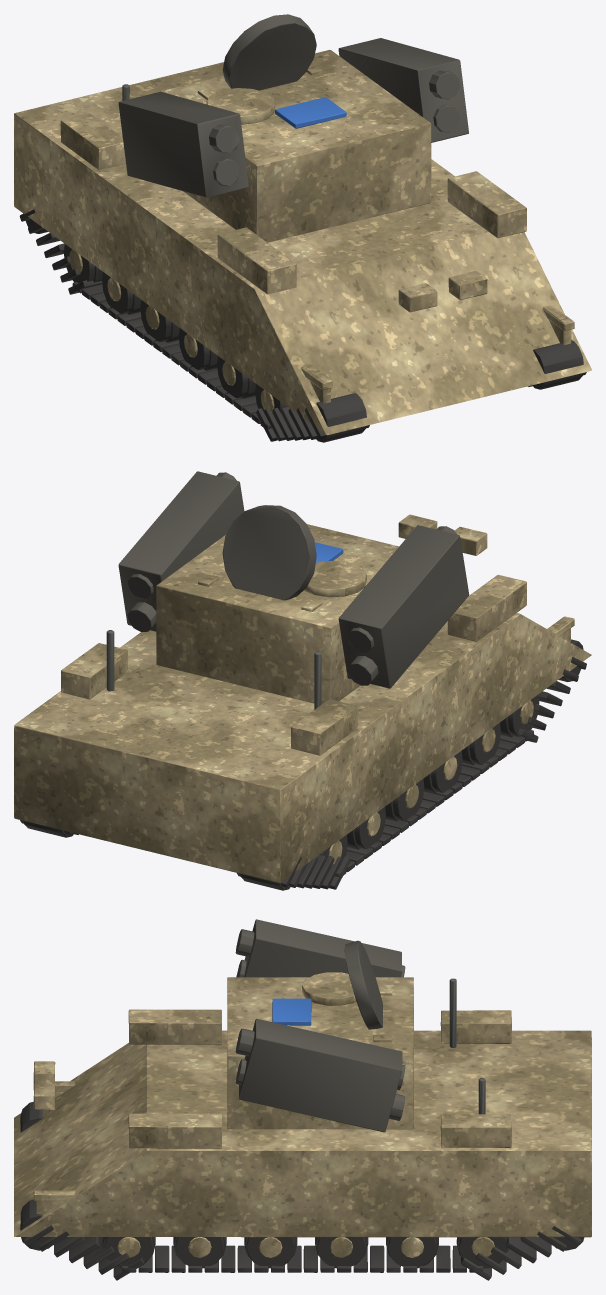
Rendered from aad_e4_us_shorad_LOD1.glb.
The picture shows the model from 3 angles, top to bottom: view 1: azimuth 30°, elevation 25°; view 2: azimuth 150°, elevation 25°; view 3: azimuth 270°, elevation 25°; orthographic projection. The views are drawn at different scales.
Parts seen in each view (by area): view 1: aad_e4_us_shorad_LOD1_body, aad_e4_us_shorad_LOD1_deck, aad_e4_us_shorad_LOD1_track, aad_e4_us_shorad_LOD1_team; view 2: aad_e4_us_shorad_LOD1_body, aad_e4_us_shorad_LOD1_deck, aad_e4_us_shorad_LOD1_track, aad_e4_us_shorad_LOD1_gun; view 3: aad_e4_us_shorad_LOD1_body, aad_e4_us_shorad_LOD1_deck, aad_e4_us_shorad_LOD1_track, aad_e4_us_shorad_LOD1_team, aad_e4_us_shorad_LOD1_gun.
Part boxes in pixels (x1=…): aad_e4_us_shorad_LOD1_body: x1=14, y1=50, x2=591, y2=435; aad_e4_us_shorad_LOD1_deck: x1=118, y1=14, x2=468, y2=197; aad_e4_us_shorad_LOD1_track: x1=19, y1=209, x2=586, y2=442; aad_e4_us_shorad_LOD1_team: x1=275, y1=97, x2=346, y2=128; aad_e4_us_shorad_LOD1_body: x1=14, y1=514, x2=591, y2=883; aad_e4_us_shorad_LOD1_deck: x1=118, y1=471, x2=469, y2=688; aad_e4_us_shorad_LOD1_track: x1=20, y1=639, x2=586, y2=890; aad_e4_us_shorad_LOD1_gun: x1=106, y1=630, x2=321, y2=709; aad_e4_us_shorad_LOD1_body: x1=14, y1=972, x2=591, y2=1257; aad_e4_us_shorad_LOD1_deck: x1=235, y1=919, x2=405, y2=1132; aad_e4_us_shorad_LOD1_track: x1=20, y1=1101, x2=584, y2=1280; aad_e4_us_shorad_LOD1_team: x1=272, y1=998, x2=311, y2=1025; aad_e4_us_shorad_LOD1_gun: x1=449, y1=978, x2=485, y2=1114.
Size of the model in its own units: 3.2 by 3.42 by 6.49.
Materials: 5 (1 with a texture image).
